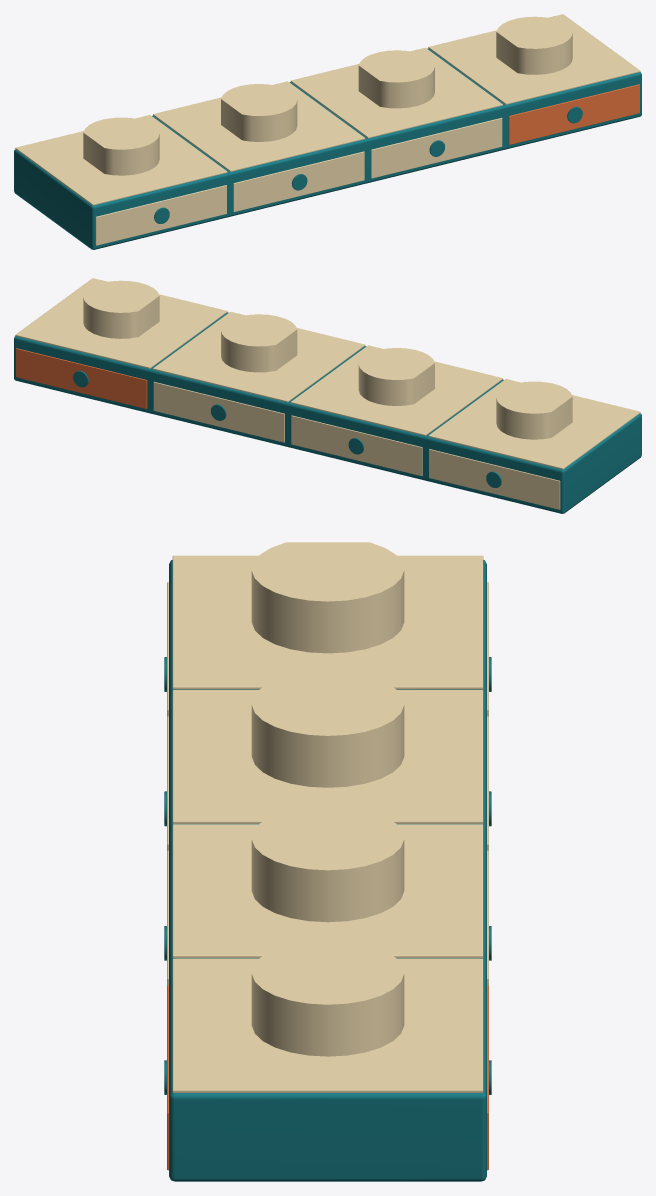
Rendered from beam-lod-0.glb.
3 views of the same model, one above another, from view 1: azimuth 30°, elevation 25°; view 2: azimuth 150°, elevation 25°; view 3: azimuth 270°, elevation 25° (orthographic). The views are drawn at different scales.
Visible parts, largest first — view 1: beam_lod_0; view 2: beam_lod_0; view 3: beam_lod_0.
Boxes of the visible parts, x1,y1,x2,y2 form: beam_lod_0: (14, 14, 641, 249); beam_lod_0: (14, 278, 641, 513); beam_lod_0: (164, 542, 491, 1181).
Size of the model in its own units: 4 by 0.5 by 1.03.
